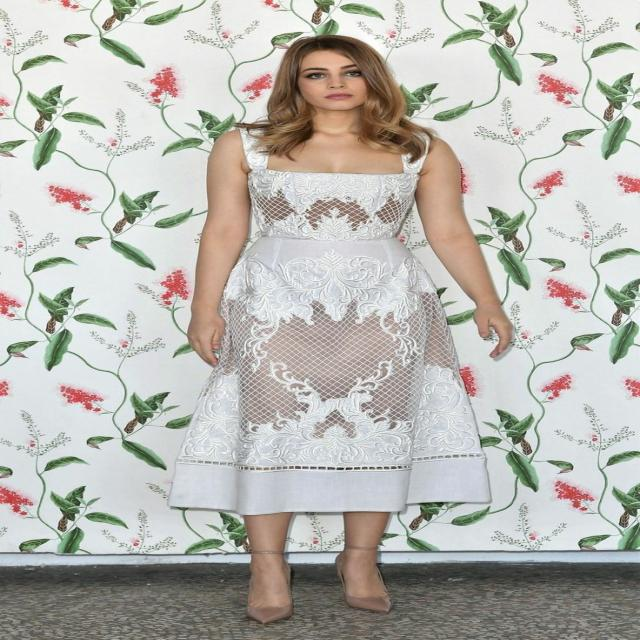female-dress: (192, 133, 502, 547)
